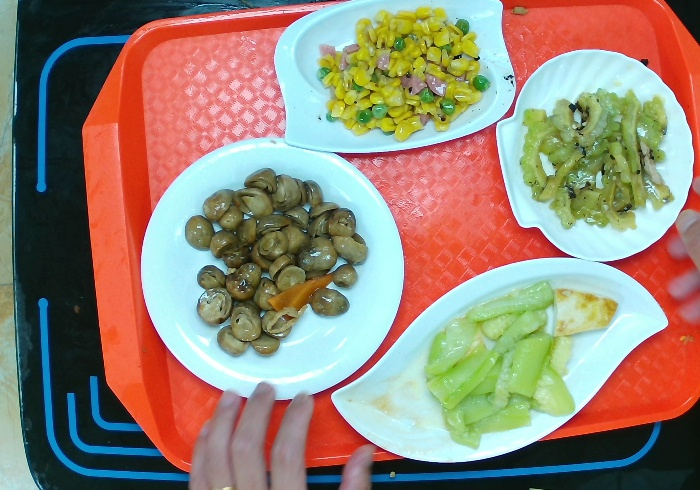RJxy-Bei_Ke_Wan: (494, 44, 698, 267)
RJxy-Jian_Jiao_Fang_Die: (269, 1, 523, 155)
RJxy-Jian_Jiao_Pan: (329, 253, 675, 468)
RJxy-Yuan_Pan: (139, 131, 407, 404)
